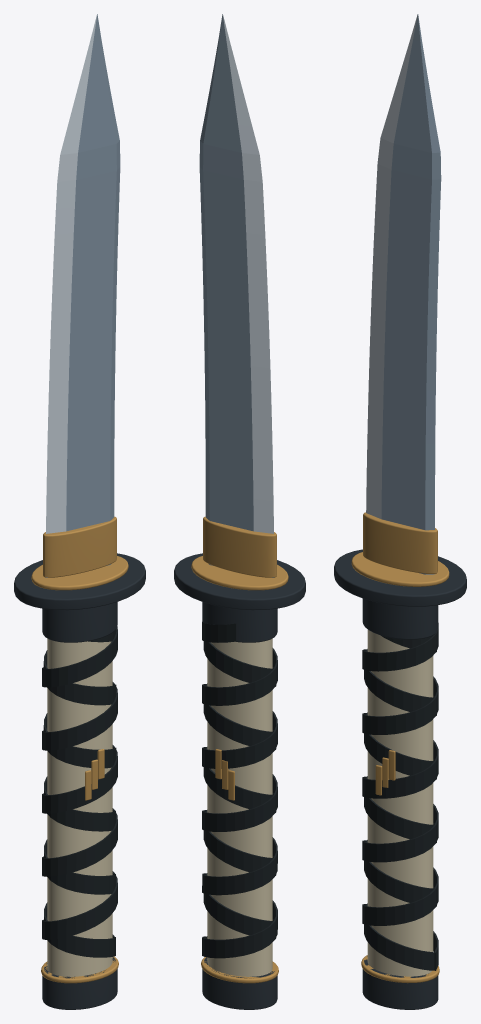
Rendered from Tanto_Short_Blade.fbx.
The picture shows the model from 3 angles, left to right: view 1: azimuth 30°, elevation 25°; view 2: azimuth 150°, elevation 25°; view 3: azimuth 330°, elevation 25°; orthographic projection.
Visible parts, largest first — view 1: Tanto_Short_Blade; view 2: Tanto_Short_Blade; view 3: Tanto_Short_Blade.
Boxes of the visible parts, left/top/right/bottom form: Tanto_Short_Blade: left=14, top=14, right=145, bottom=1009; Tanto_Short_Blade: left=174, top=14, right=305, bottom=1009; Tanto_Short_Blade: left=334, top=14, right=466, bottom=1009.
Bounding box in the file's own units: 5.6 × 43.3 × 4.2.
